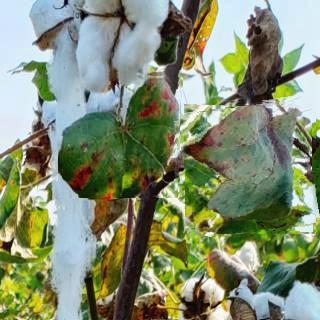blight: (180, 99, 316, 234), (58, 71, 183, 199)
